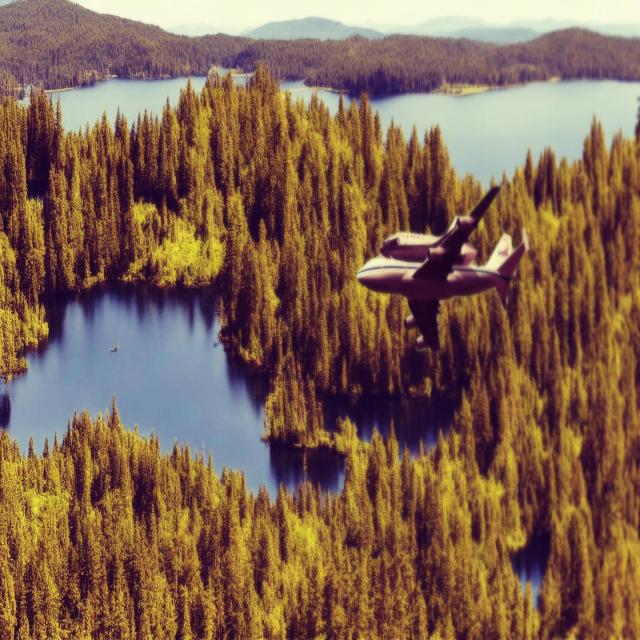airplane: (356, 184, 529, 352)
